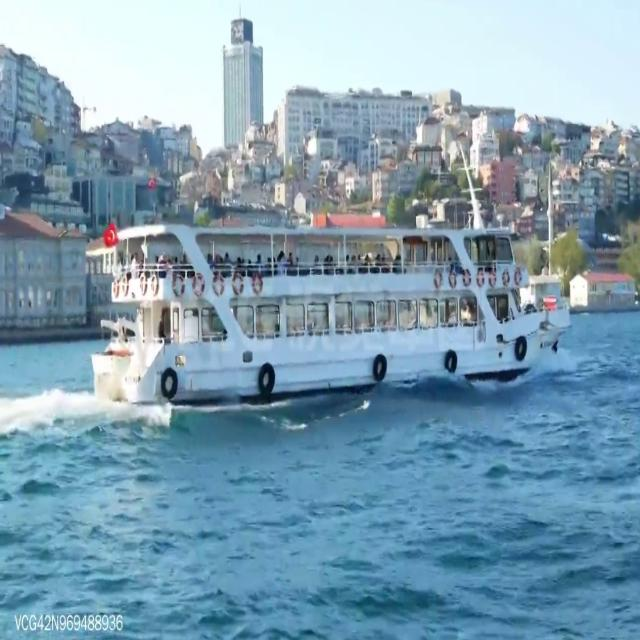passenger ship: (86, 209, 563, 397)
